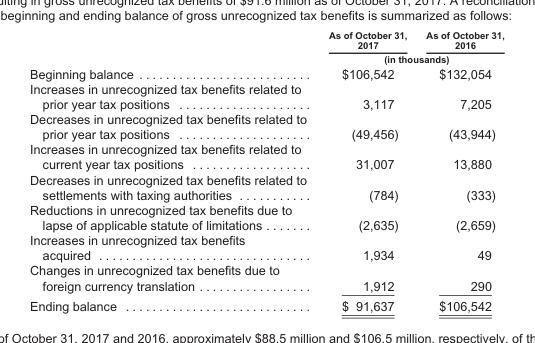table: (28, 29, 503, 312)
table column: (28, 29, 317, 312), (317, 29, 415, 312), (415, 29, 503, 312)
table column header: (28, 29, 503, 65)
table row: (28, 262, 503, 295), (28, 110, 503, 141), (28, 201, 503, 232), (28, 80, 503, 110), (28, 141, 503, 171), (28, 171, 503, 201), (28, 232, 503, 262), (28, 29, 503, 51), (28, 295, 503, 312), (28, 65, 503, 80), (28, 51, 503, 65)
table spanning cell: (317, 51, 503, 65)
